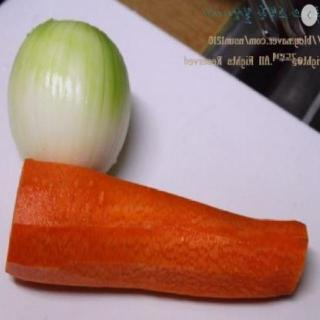carrot: (3, 156, 313, 302)
